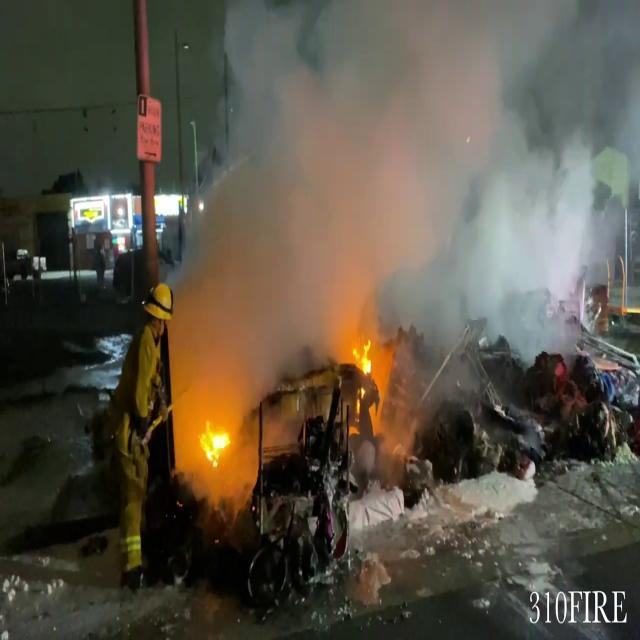Fire: (347, 333, 388, 423), (194, 412, 236, 474)
Smoke: (169, 0, 640, 387)
